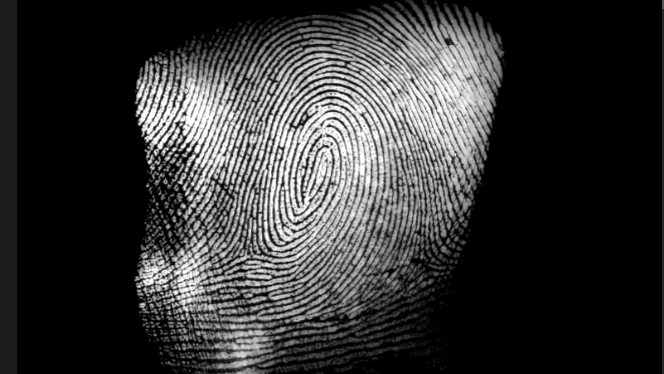nucelo: (308, 144, 339, 187)
verticilo: (232, 237, 262, 269), (410, 247, 437, 271)
